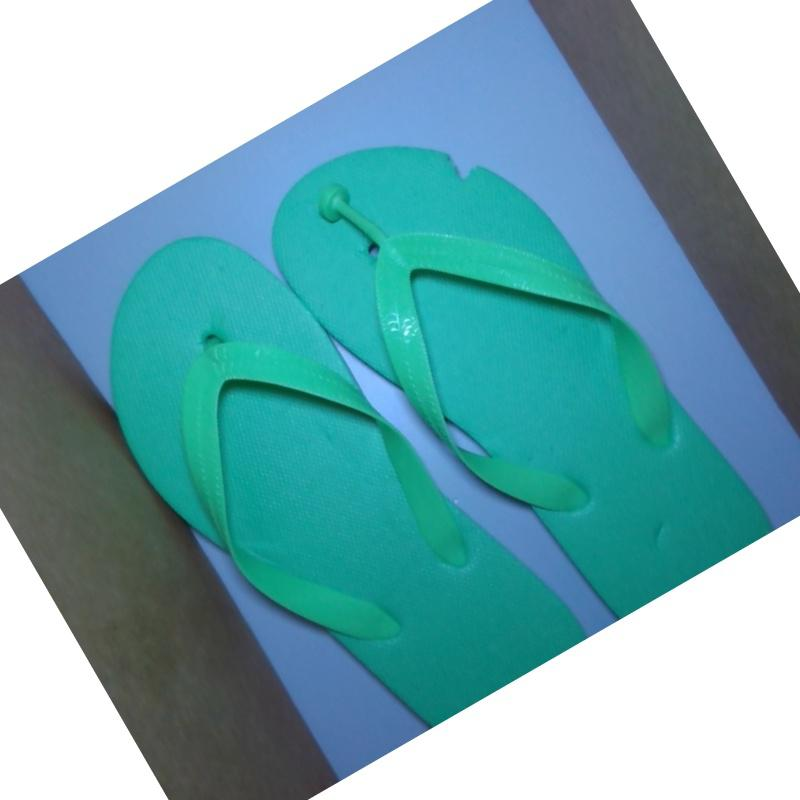chipped: (434, 136, 494, 198)
detached: (308, 173, 361, 237)
